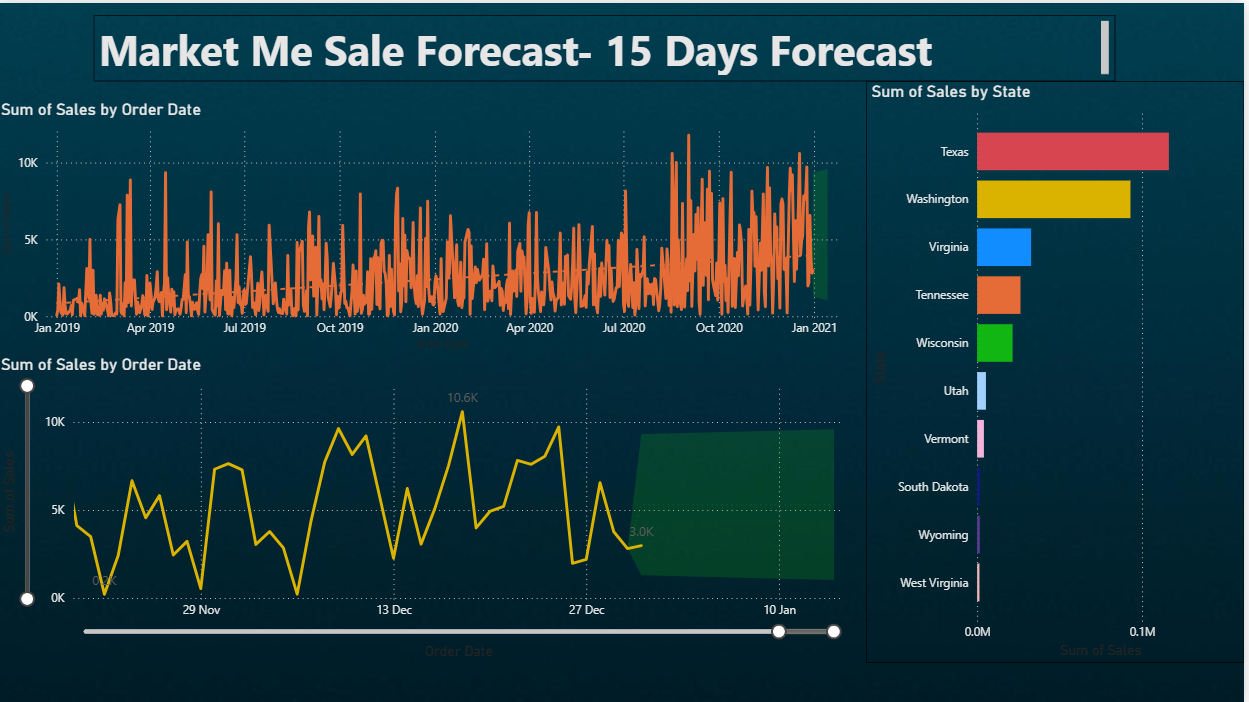

What the dashboard file says about the page in this screenshot:
{"tool":"powerbi","page":{"name":"Page 2","canvas":[1280,720],"ordinal":1},"visuals":[{"type":"lineChart","fields":{"Y":["Sum(SuperStore_Sales_Dataset.Sales)"],"Category":["SuperStore_Sales_Dataset.Order Date"]},"box":[0,98.5,881.5,261.5],"z":0},{"type":"lineChart","fields":{"Y":["Sum(SuperStore_Sales_Dataset.Sales)"],"Category":["SuperStore_Sales_Dataset.Order Date"]},"box":[0,360,881.5,316.9],"z":1000},{"type":"clusteredBarChart","fields":{"Category":["SuperStore_Sales_Dataset.State"],"Y":["Sum(SuperStore_Sales_Dataset.Sales)"]},"box":[892.3,80,387.7,596.9],"z":2000},{"type":"textbox","box":[100,12.3,1047.7,67.7],"z":3000}]}

Visuals, with their boxes in screenshot pixels (x1, y1, x2, y2), scaled from the page's 1280x720 canvas onto the 1249x702 screenshot:
lineChart - Sum(SuperStore_Sales_Dataset.Sales) x SuperStore_Sales_Dataset.Order Date: box(0, 96, 860, 351)
lineChart - Sum(SuperStore_Sales_Dataset.Sales) x SuperStore_Sales_Dataset.Order Date: box(0, 351, 860, 660)
clusteredBarChart - SuperStore_Sales_Dataset.State x Sum(SuperStore_Sales_Dataset.Sales): box(871, 78, 1248, 660)
textbox: box(98, 12, 1120, 78)
